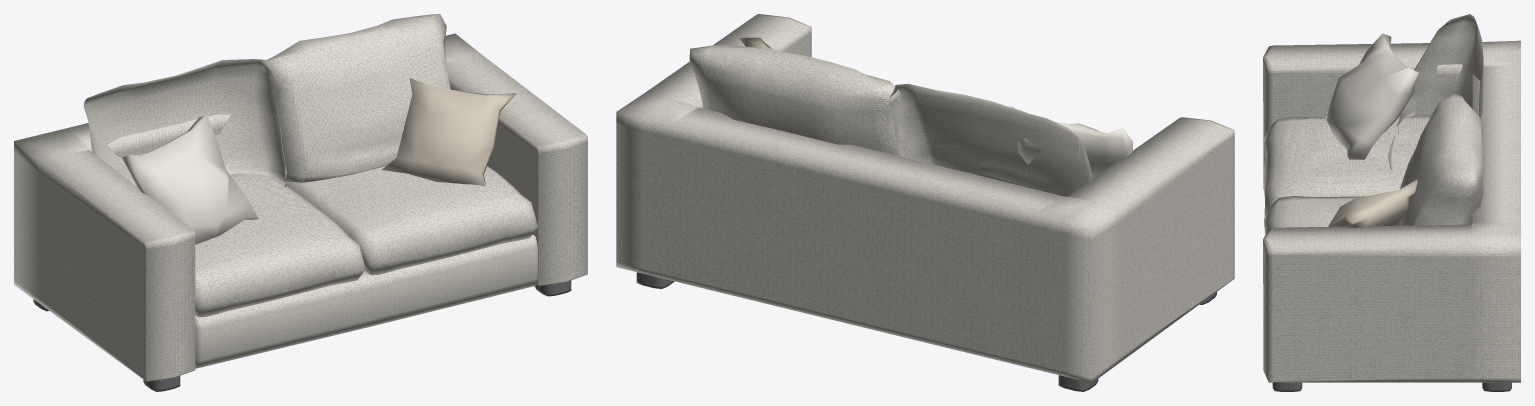
File: burlap_sofa.gltf
The picture shows the model from 3 angles, left to right: view 1: azimuth 30°, elevation 25°; view 2: azimuth 150°, elevation 25°; view 3: azimuth 270°, elevation 25°; orthographic projection. The views are drawn at different scales.
Parts seen in each view (by area): view 1: back, bigcushion2.002, base, base_big_cushion2, base_big_cushion, bigcushion2, cushion_dark, cushion_clear; view 2: back, bigcushion2.002, bigcushion2, cushion_clear; view 3: back, base_big_cushion, bigcushion2.002, cushion_clear, bigcushion2, cushion_dark, base_big_cushion2, leg3, leg4.
Part boxes in pixels (x1,y1,x2,y2): back: [14, 33, 587, 381]; bigcushion2.002: [262, 14, 450, 183]; base: [195, 234, 537, 368]; base_big_cushion2: [286, 166, 537, 275]; base_big_cushion: [195, 173, 365, 317]; bigcushion2: [83, 59, 286, 187]; cushion_dark: [382, 78, 516, 186]; cushion_clear: [122, 115, 258, 244]; back: [616, 14, 1234, 382]; bigcushion2.002: [689, 44, 908, 158]; bigcushion2: [889, 84, 1092, 196]; cushion_clear: [1011, 106, 1133, 178]; back: [1263, 40, 1520, 382]; base_big_cushion: [1263, 115, 1431, 216]; bigcushion2.002: [1397, 93, 1483, 225]; cushion_clear: [1326, 33, 1418, 159]; bigcushion2: [1388, 14, 1483, 170]; cushion_dark: [1328, 179, 1417, 227]; base_big_cushion2: [1264, 196, 1364, 234]; leg3: [1272, 382, 1302, 391]; leg4: [1482, 382, 1511, 391].
Bounding box in the file's own units: 1.7 × 0.8005 × 0.9045.
Materials: 4 (1 with a texture image).
